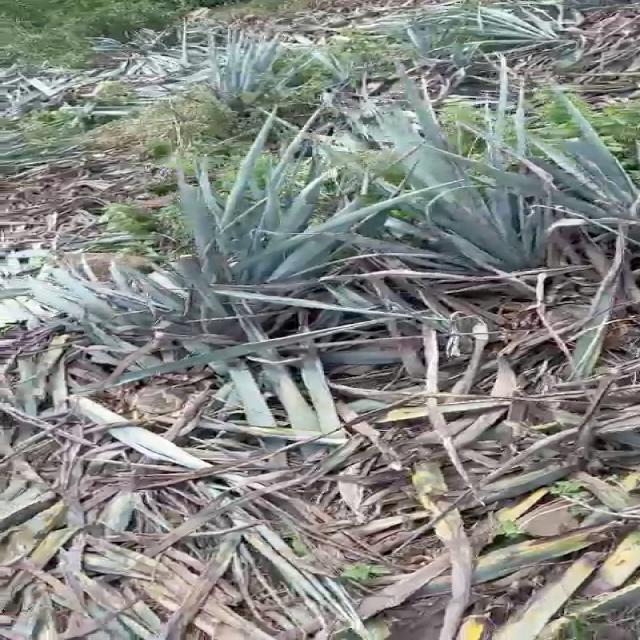agave: (160, 144, 353, 348), (360, 121, 560, 312), (502, 118, 640, 260)
